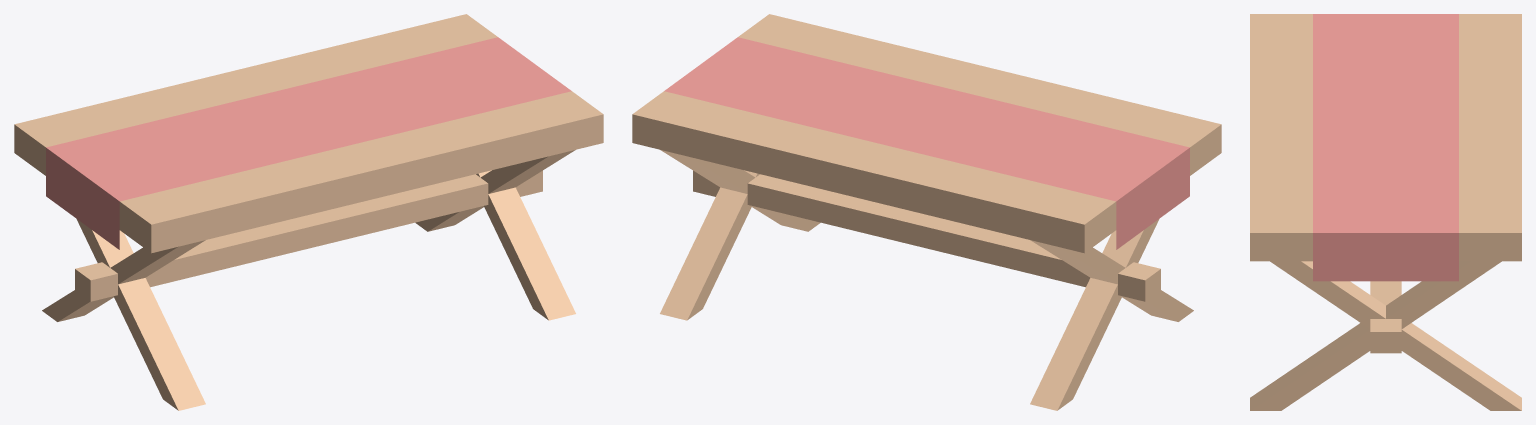
File: k_tableCrossCloth.glb
3 views of the same model, side by side, from view 1: azimuth 30°, elevation 25°; view 2: azimuth 150°, elevation 25°; view 3: azimuth 270°, elevation 25° (orthographic).
Parts seen in each view (by area): view 1: tableCrossCloth(Clone); view 2: tableCrossCloth(Clone); view 3: tableCrossCloth(Clone).
Part boxes in pixels (x1,y1,x2,y2): tableCrossCloth(Clone): (14,14,603,410); tableCrossCloth(Clone): (632,14,1221,410); tableCrossCloth(Clone): (1250,14,1521,410).
Bounding box in the file's own units: 1.55 × 0.6331 × 0.8152.
